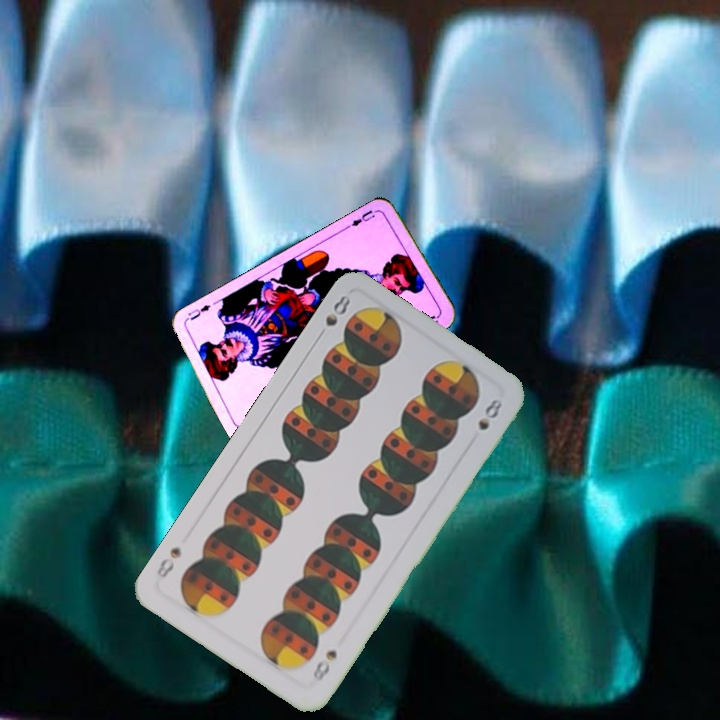EU: (343, 205, 381, 231)
S8: (312, 290, 354, 343), (308, 645, 340, 684)
